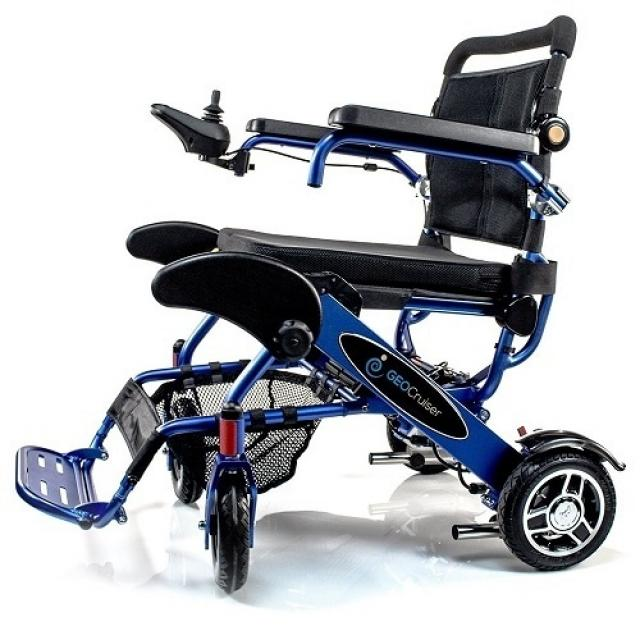wheelchair: (8, 8, 640, 604)
